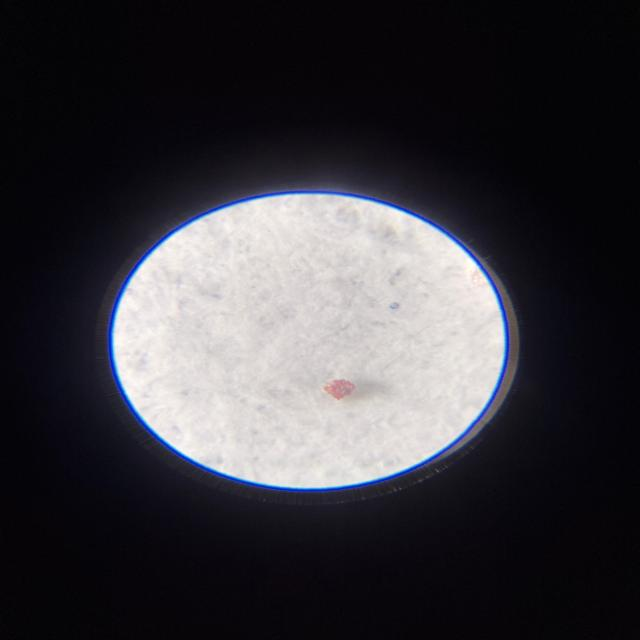microplastic_type_0: (321, 378, 378, 407)
